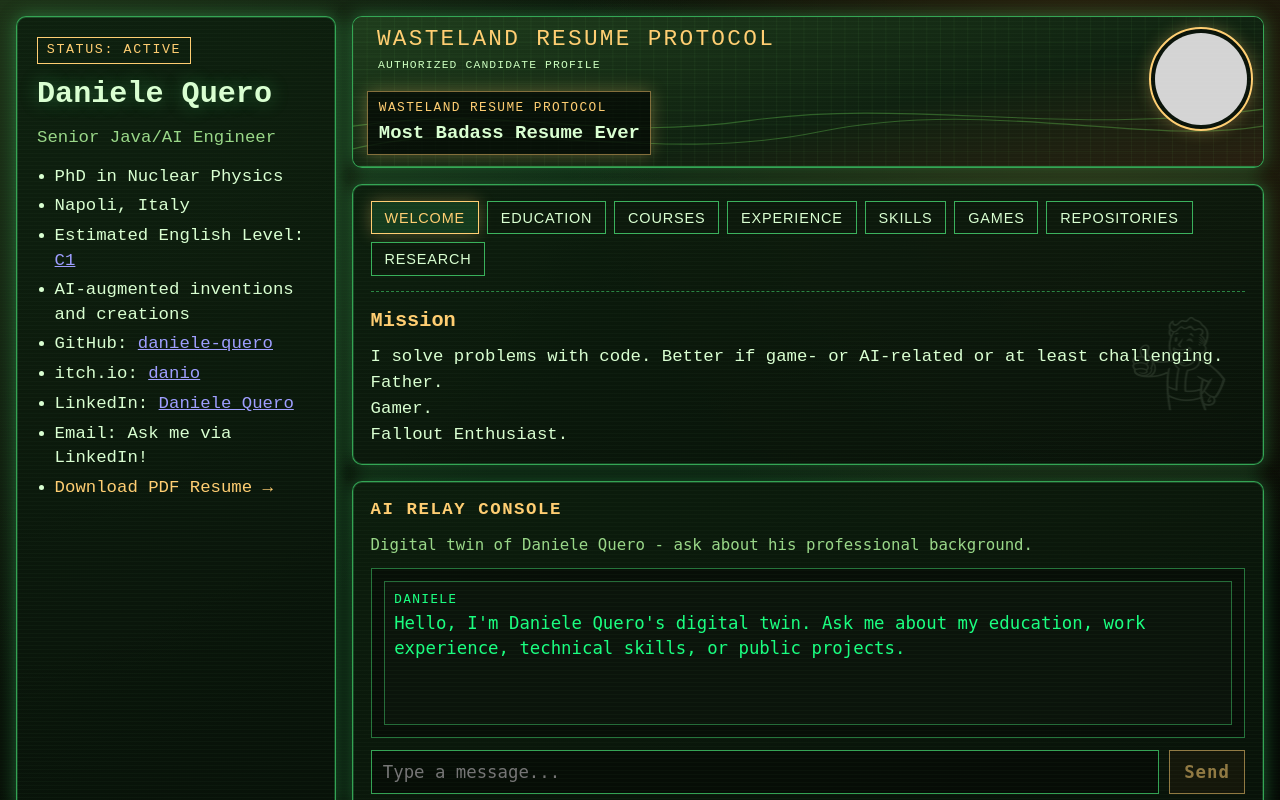
App - CV PDF builder navigation › opens the PDF builder page from the sidebar link and hides the resume tabs
Click the button "Download PDF Resume →": (164, 488) 55,476 -> 273,500
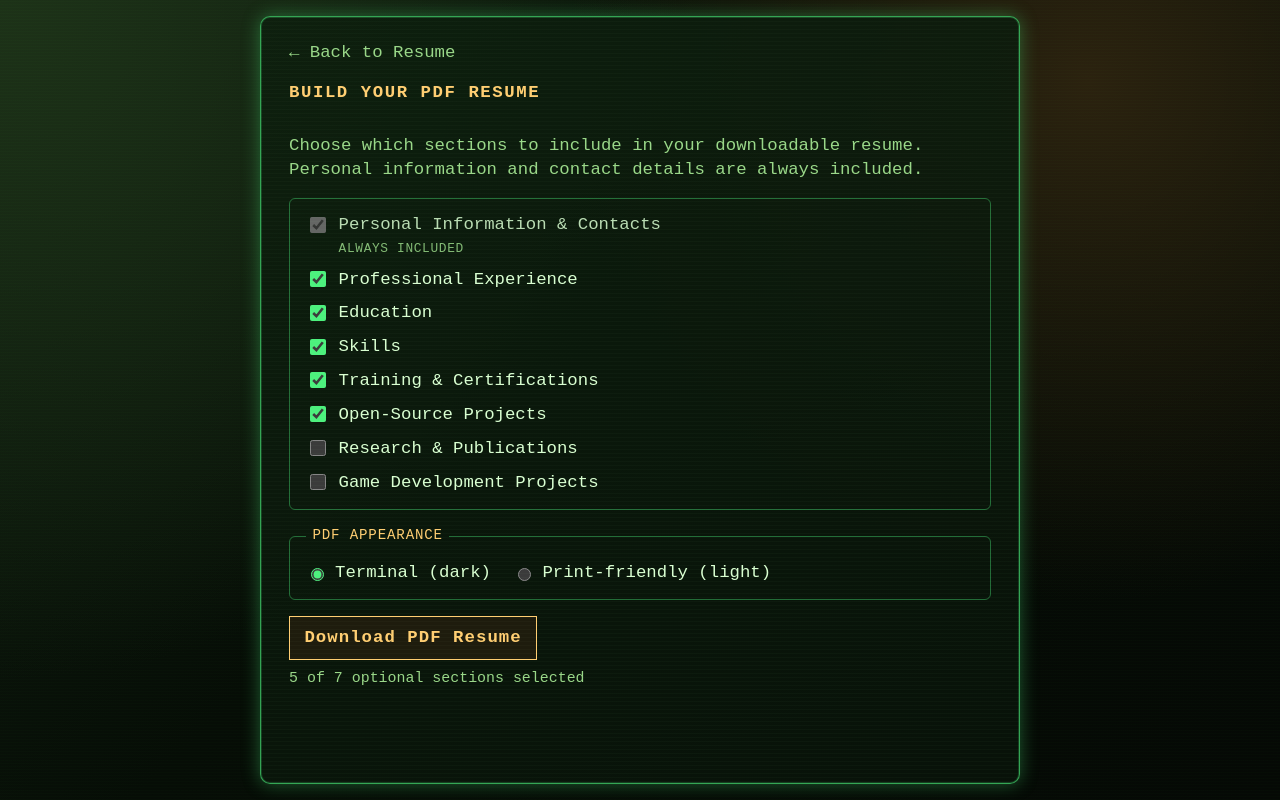
Check: the heading "Build Your PDF Resume" is shown, box 289,83 -> 540,102
